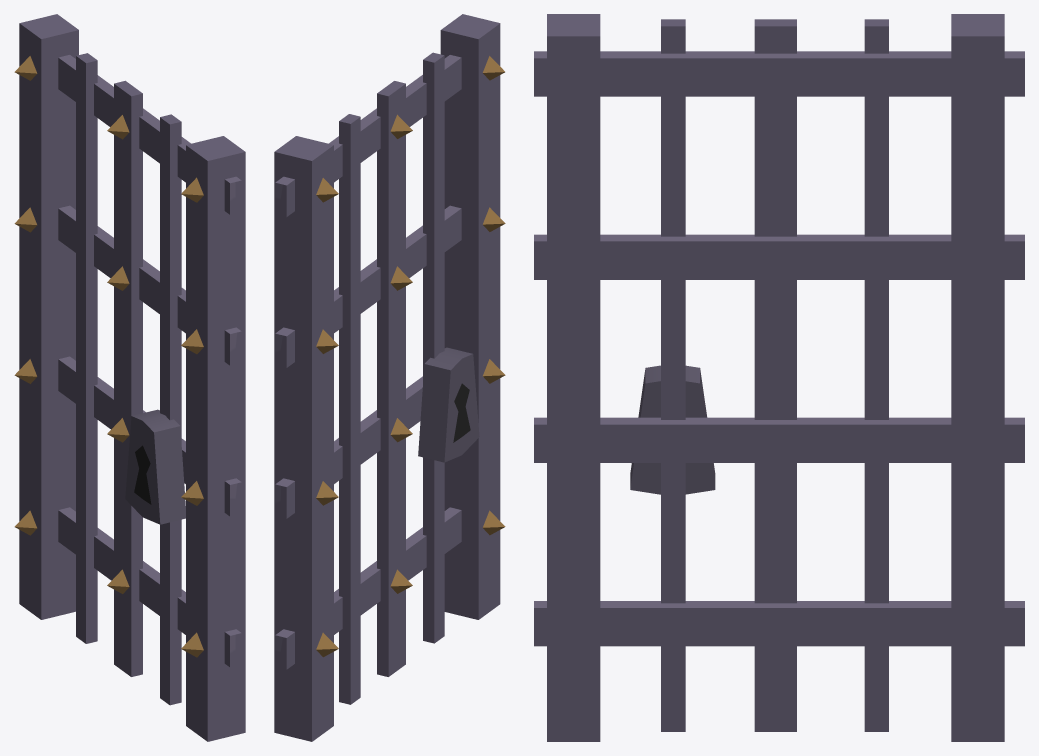
Rendered from JailDoor.FBX.
3 views of the same model, side by side, from view 1: azimuth 30°, elevation 25°; view 2: azimuth 150°, elevation 25°; view 3: azimuth 270°, elevation 25° (orthographic). The views are drawn at different scales.
Parts seen in each view (by area): view 1: JailDoor; view 2: JailDoor; view 3: JailDoor.
Part boxes in pixels (left/top/right/bottom): JailDoor: left=14, top=14, right=245, bottom=741; JailDoor: left=274, top=14, right=505, bottom=741; JailDoor: left=534, top=14, right=1024, bottom=741.
Bounding box in the file's own units: 0.1853 × 1.91 × 1.21.
